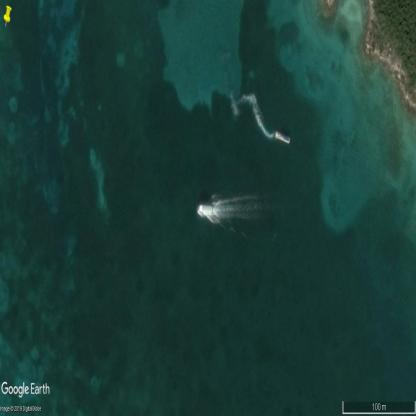ship: (275, 131, 290, 143), (199, 205, 212, 213)
